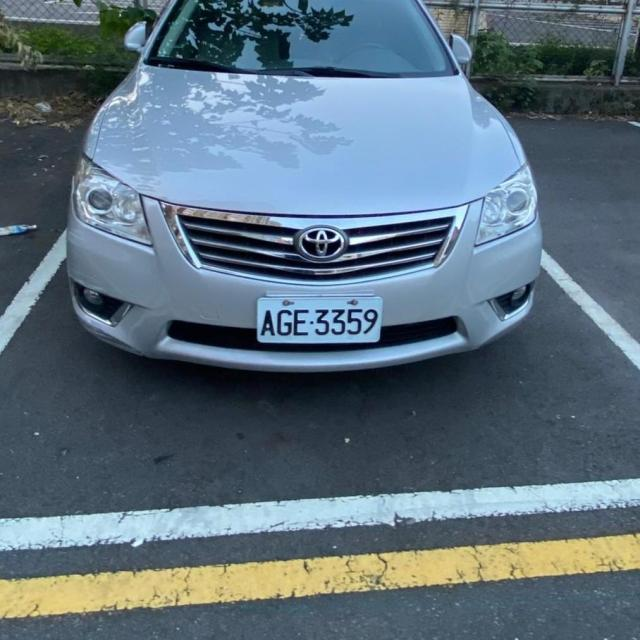W: (256, 292, 381, 345)
